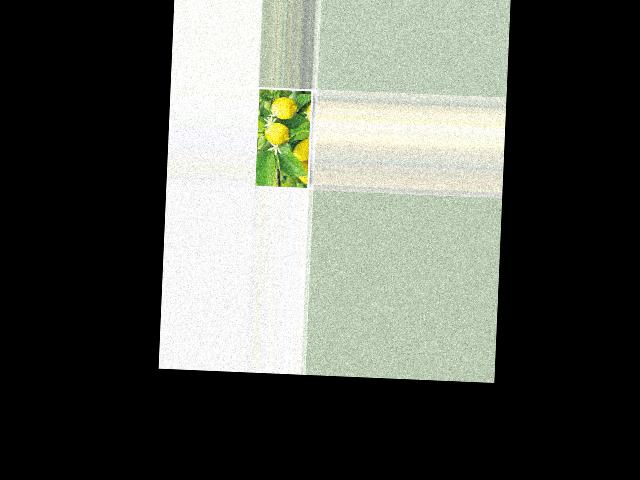lemon: (262, 122, 291, 144)
